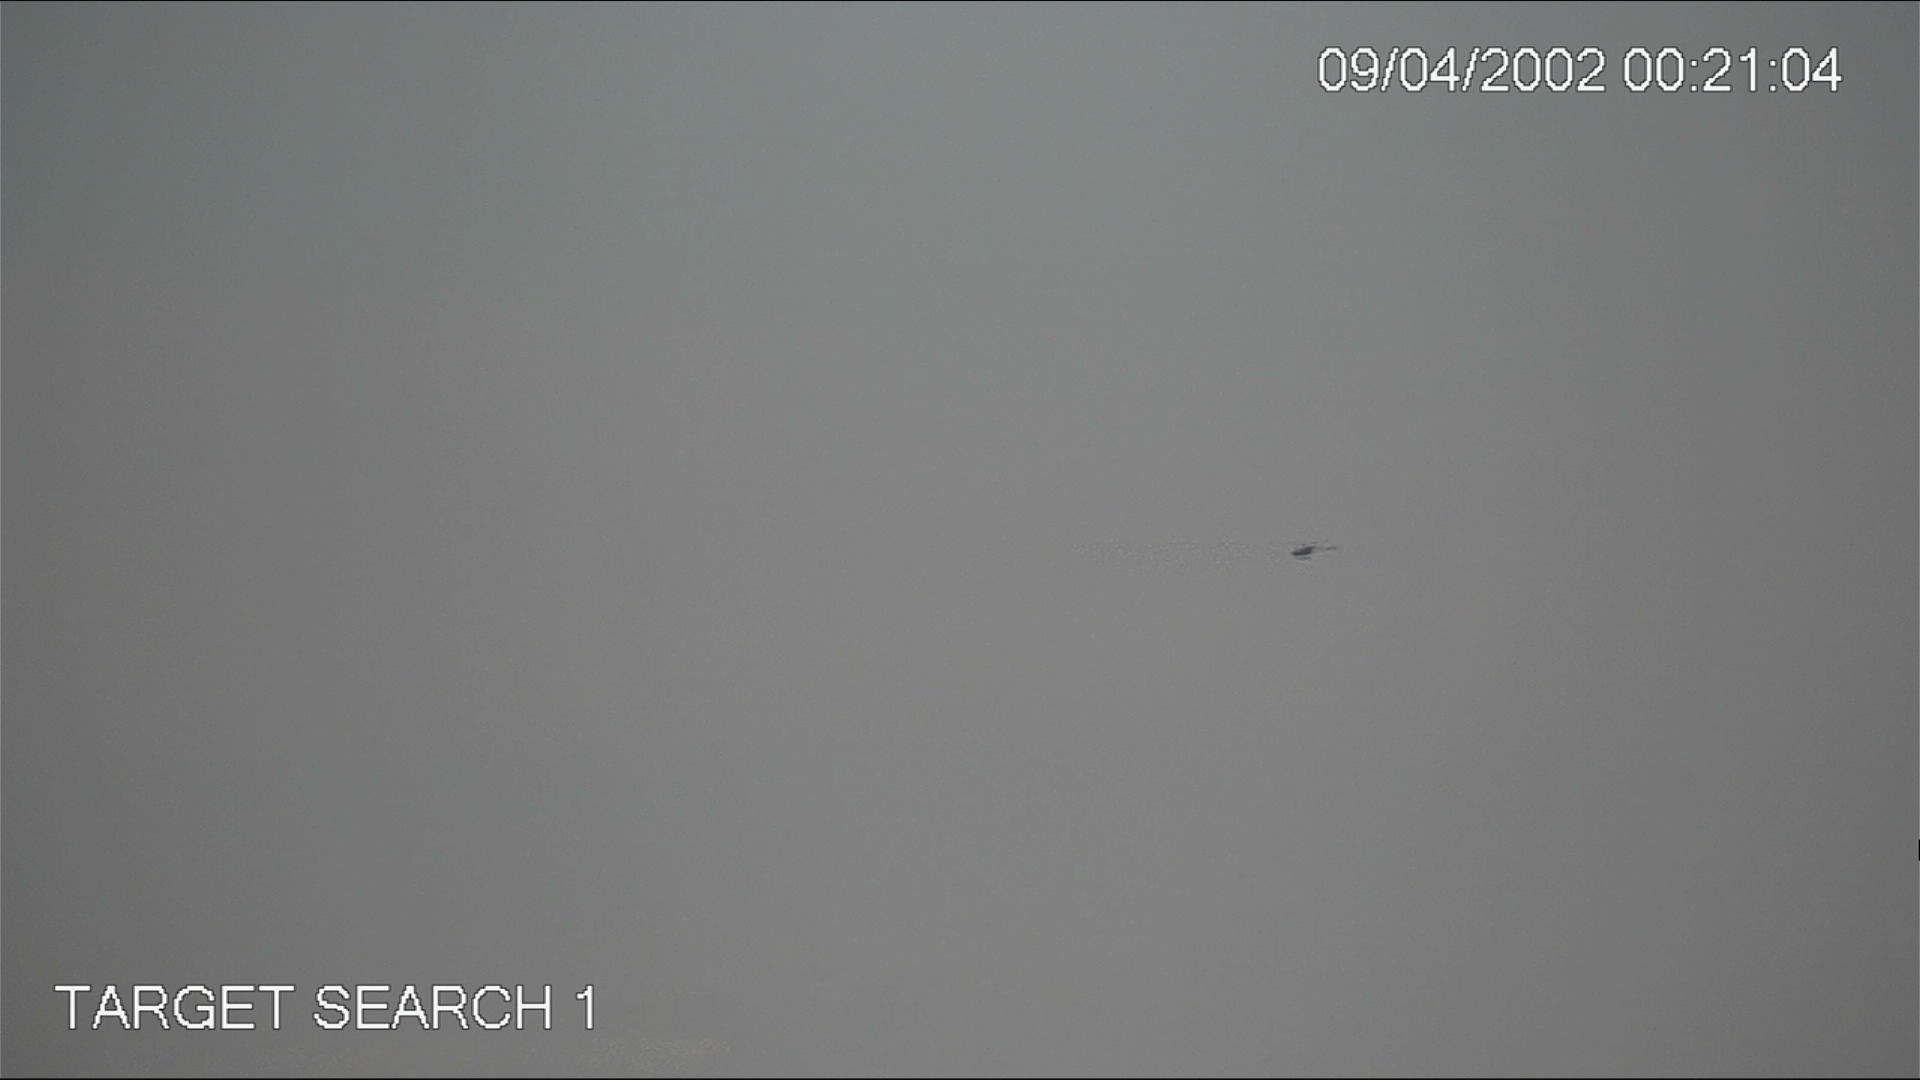SU_30: (1287, 543, 1323, 556)
